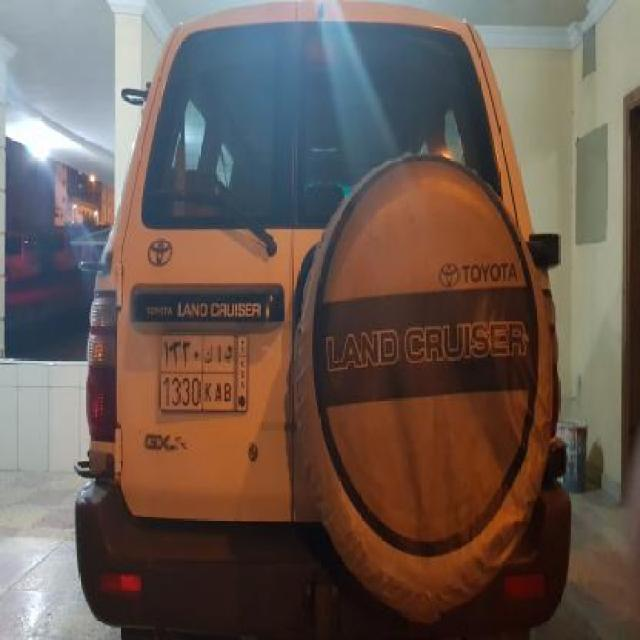license_plate: (157, 330, 251, 415)
